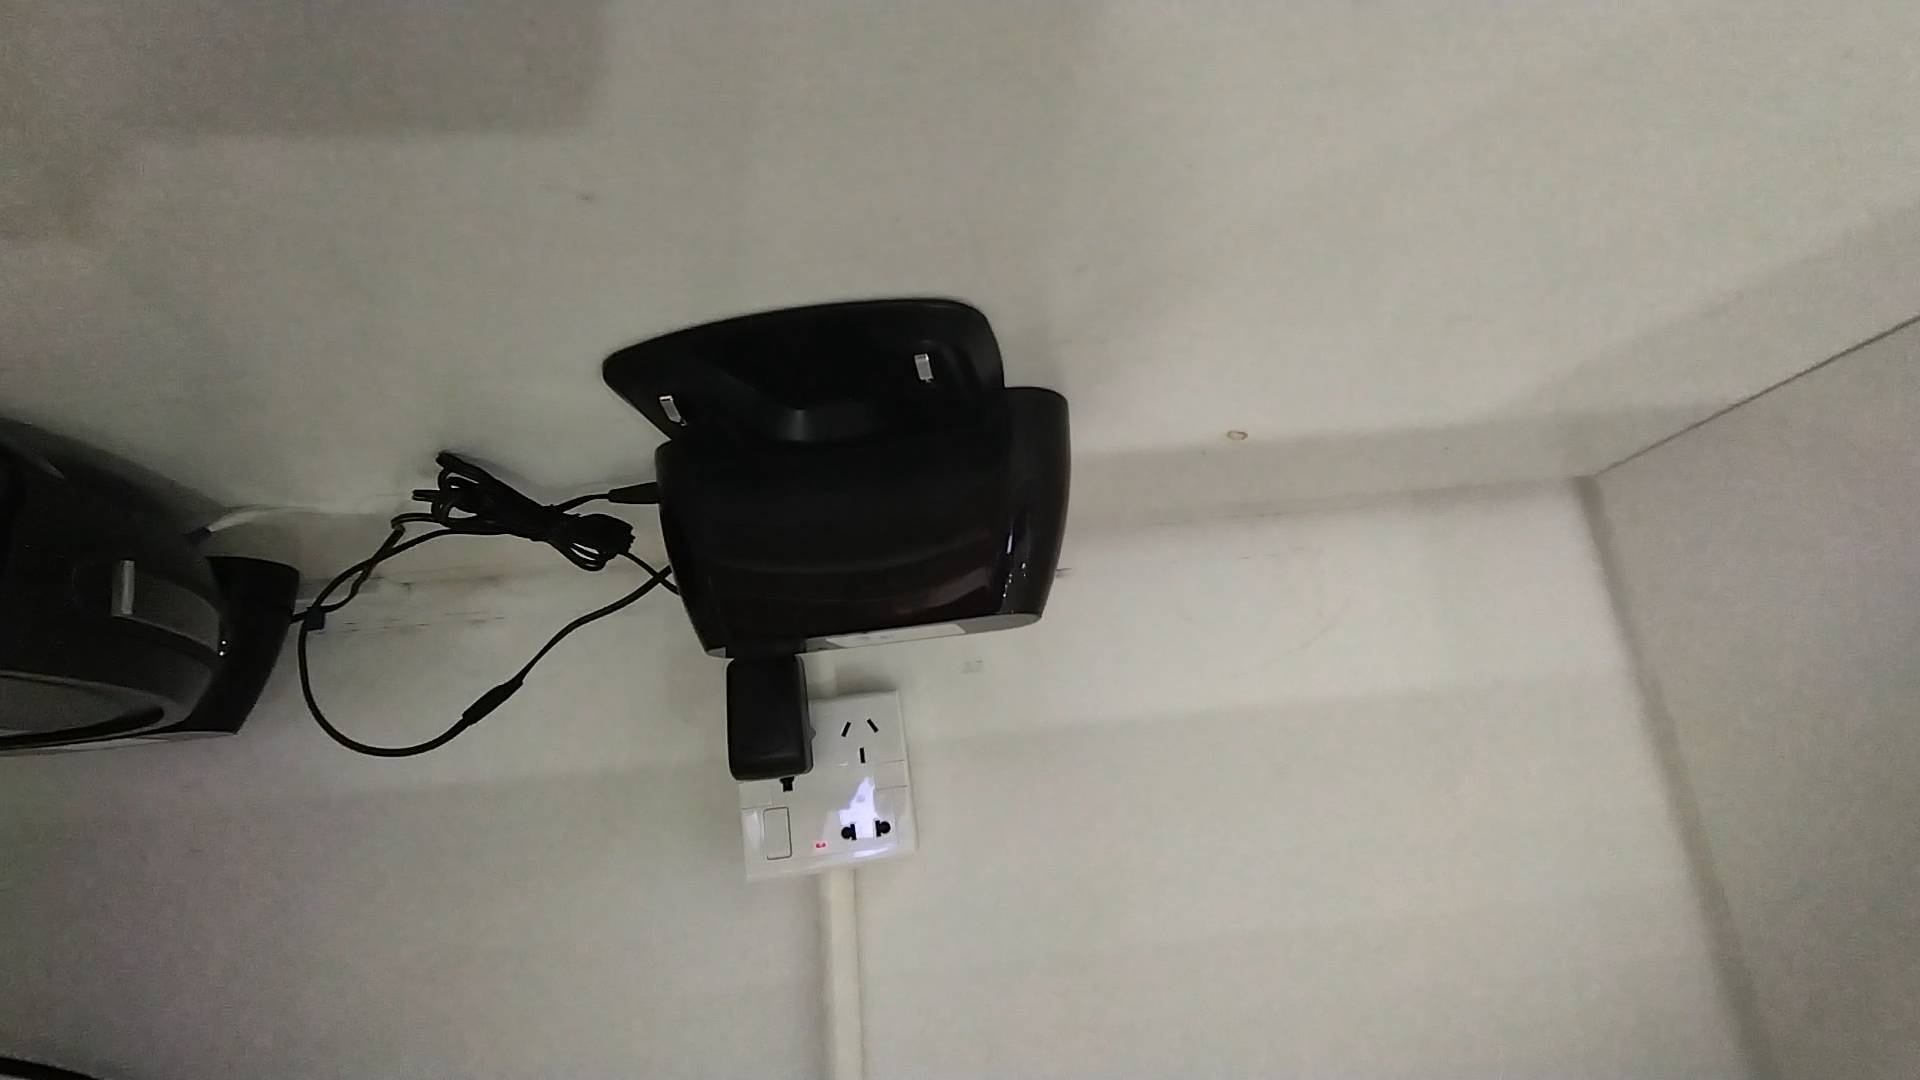recharge seat: (603, 291, 1071, 658)
